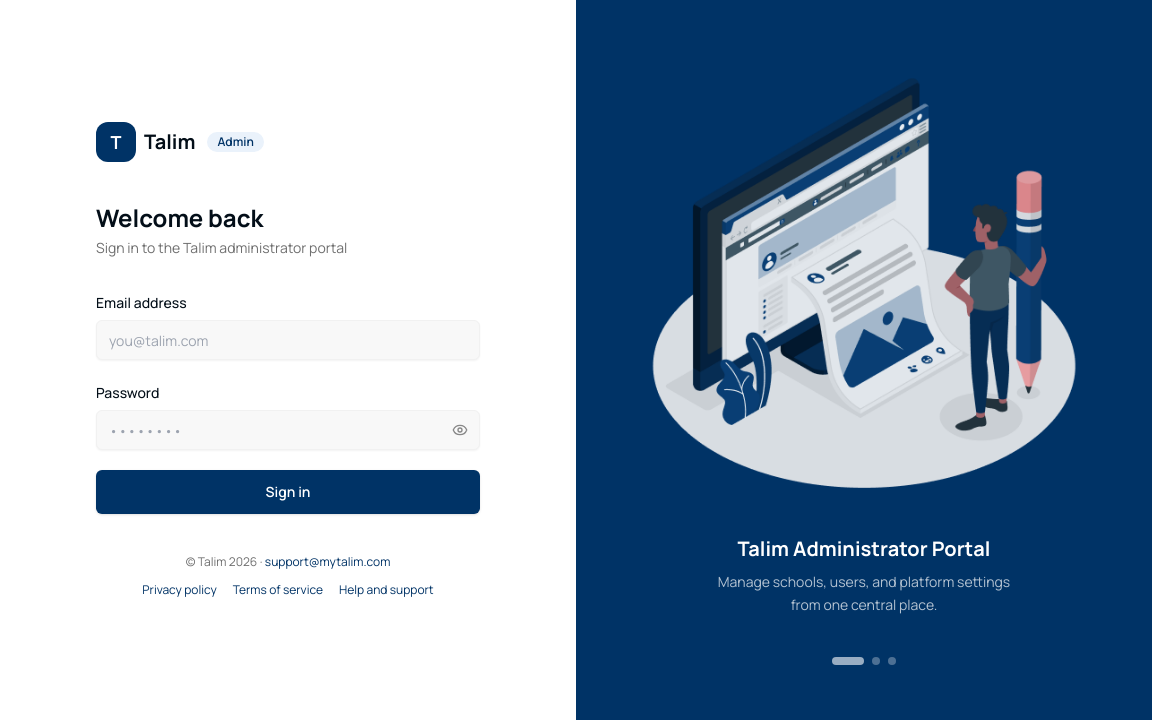
Test: LoginForm › shows Access denied when admin-login answers 403 FORBIDDEN for a non-admin account
Type "teacher@school.test" into the field labelled "Email address" at (288, 340), box [96,320,480,360]
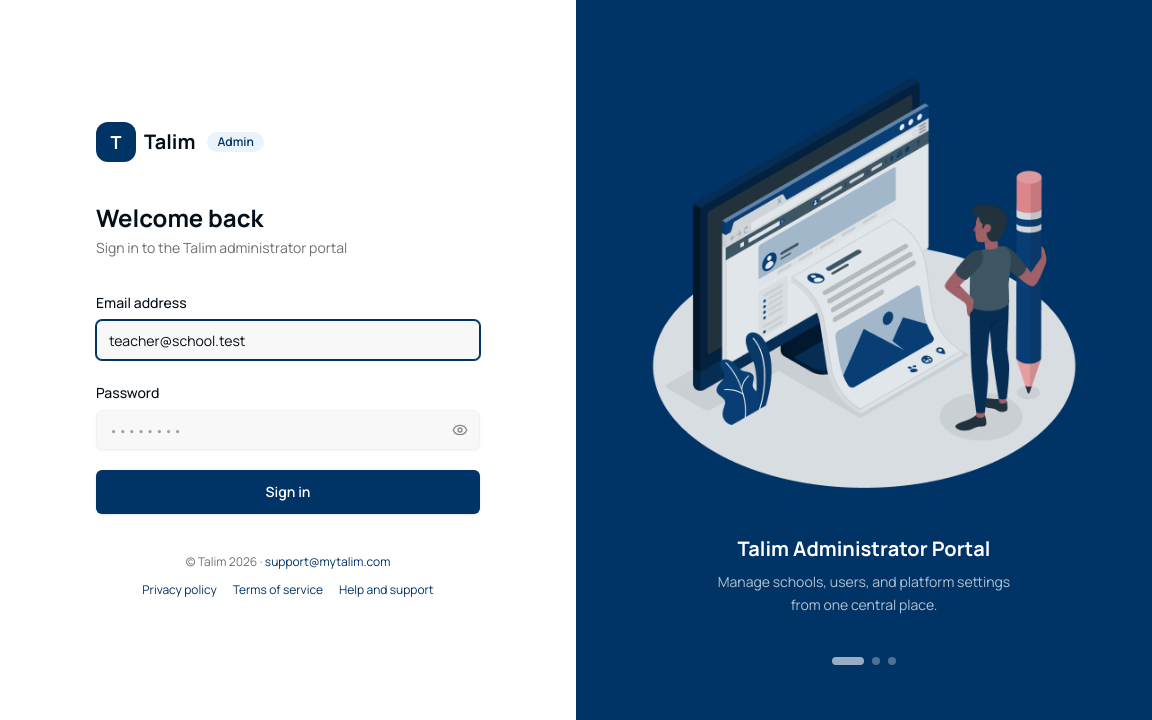
Type "secret" into the password field labelled "Password" at (288, 430), box [96,410,480,450]
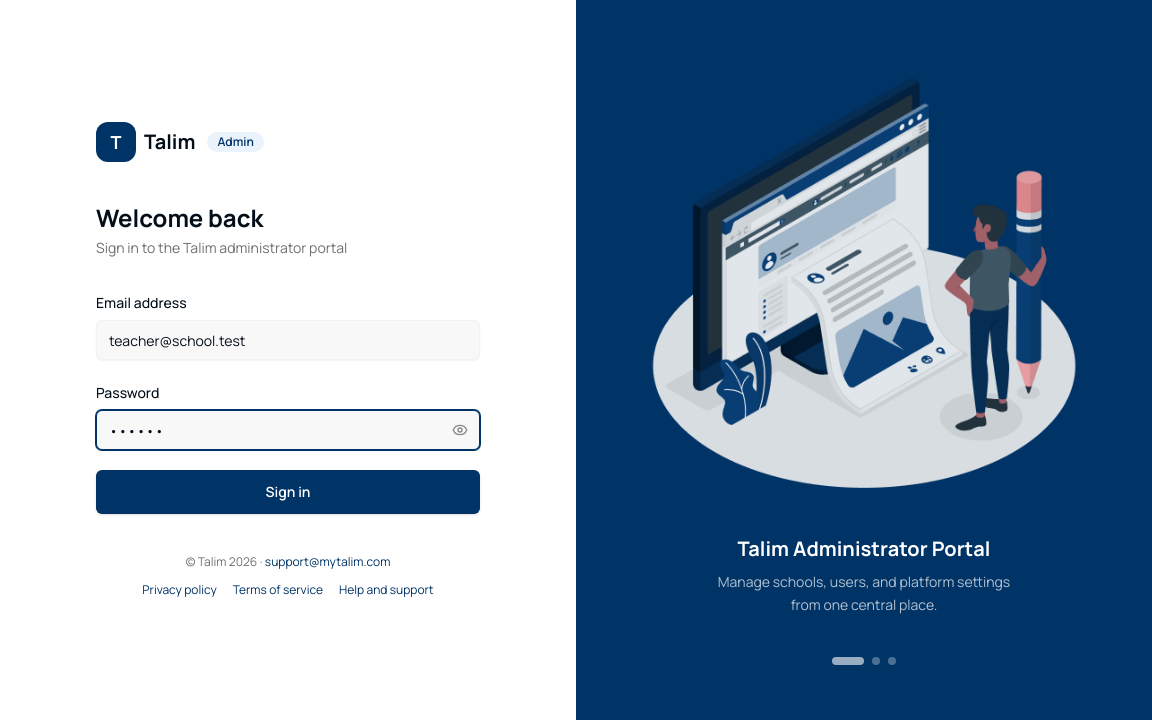
Click the button "Sign in" at (288, 492), box [96,470,480,514]
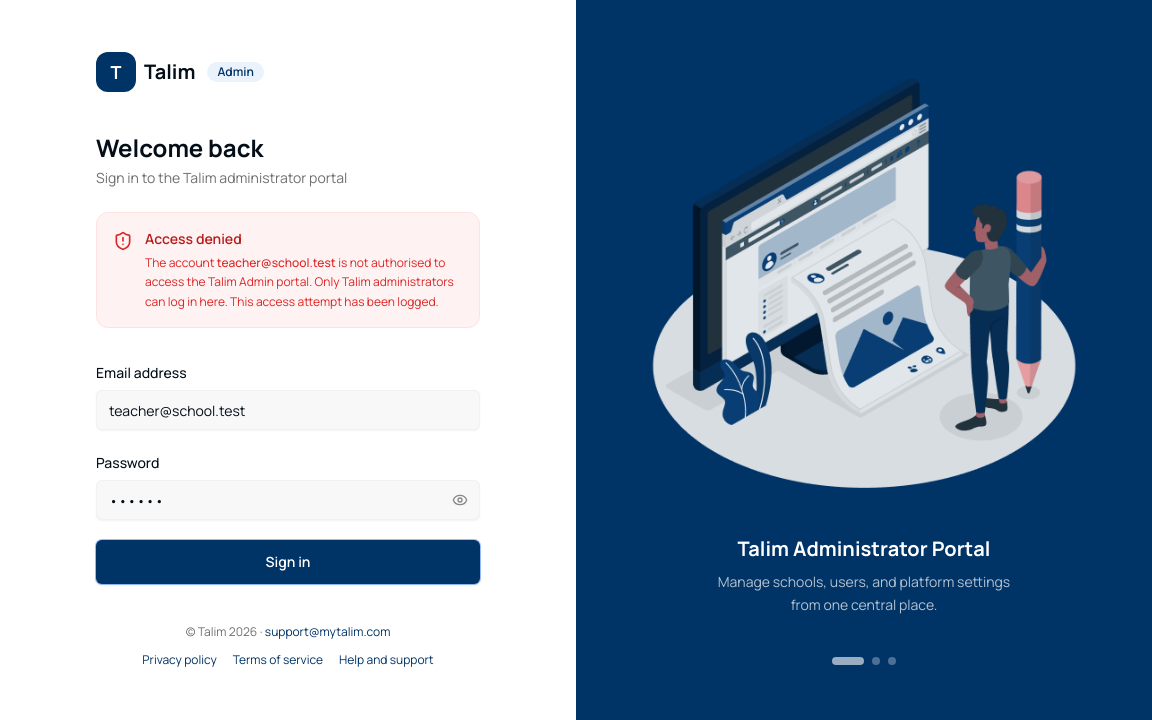
Result: the text "Access denied" is shown at [145,229,242,248]
Result: the text "teacher@school.test" is shown at [217,254,336,271]
